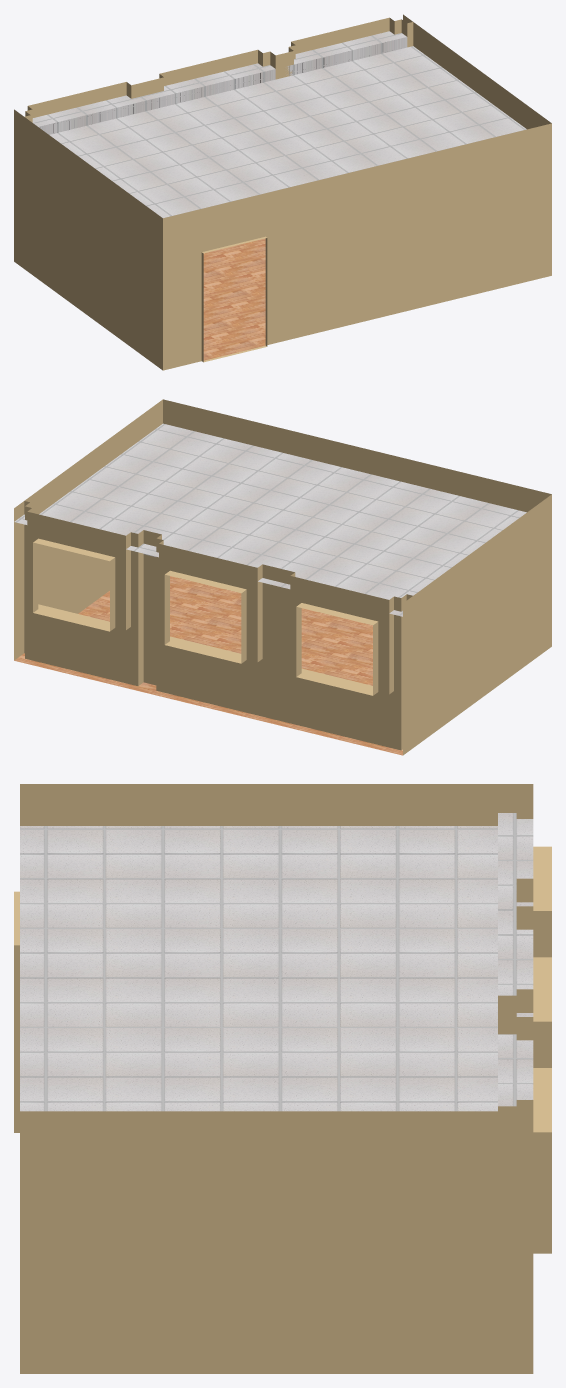
The model's file is room3_2_big_1.glb.
The picture shows the model from 3 angles, top to bottom: view 1: azimuth 30°, elevation 25°; view 2: azimuth 150°, elevation 25°; view 3: azimuth 270°, elevation 25°; orthographic projection. The views are drawn at different scales.
Parts seen in each view (by area): view 1: 4et.018; view 2: 4et.018; view 3: 4et.018.
Boxes of the visible parts, x1,y1,x2,y2 form: 4et.018: [14, 14, 551, 370]; 4et.018: [14, 399, 551, 755]; 4et.018: [14, 784, 551, 1373].
Size of the model in its own units: 8.82 by 3.3 by 6.13.
3 materials, 2 textured.
